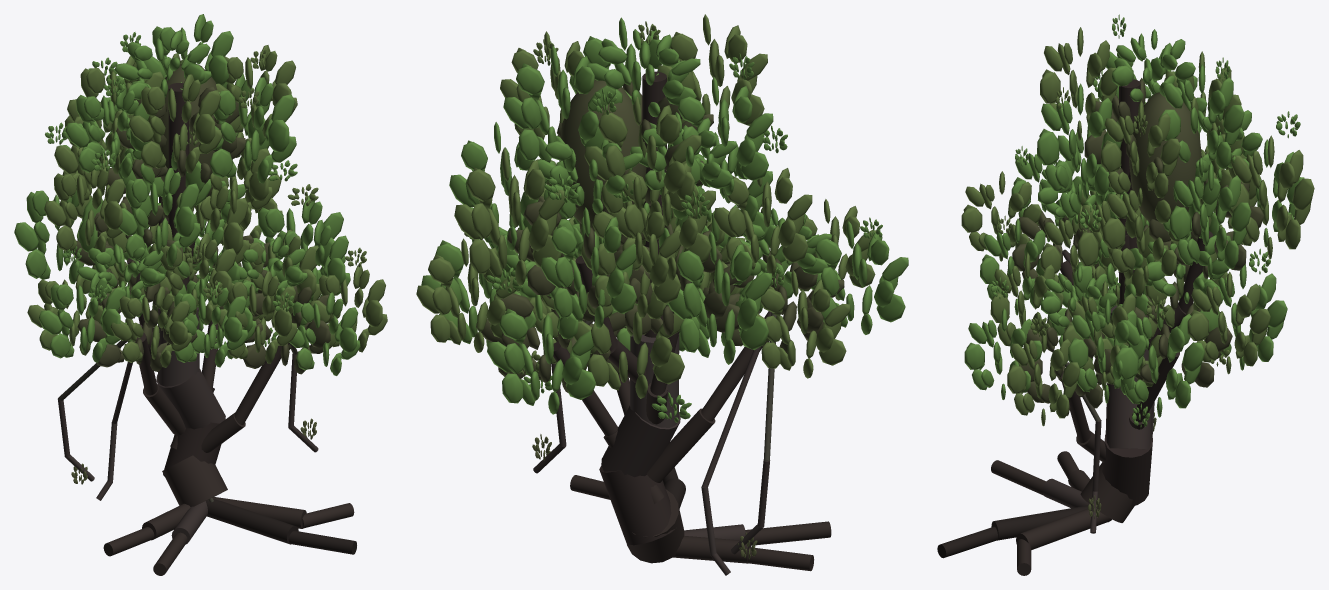
Rendered from CMU3DBroadleafTree01.glb.
3 views of the same model, side by side, from view 1: azimuth 30°, elevation 25°; view 2: azimuth 150°, elevation 25°; view 3: azimuth 270°, elevation 25° (orthographic). The views are drawn at different scales.
Parts seen in each view (by area): view 1: irregular rounded leaf cluster (×31), off-center crown cluster (×4), rounded leaf core (×4), source curved trunk 3, source curved trunk 1, source root 2.1, source curved trunk 2, inferred hidden trunk continuation, dark inner oval foliage, source curved trunk 4, inferred crown branch 5.2, source root 3.1 (+9 smaller); view 2: irregular rounded leaf cluster (×23), off-center crown cluster (×5), rounded leaf core (×5), source curved trunk 2, dark inner oval foliage, source curved trunk 3, inferred crown branch 4.1, source curved trunk 1, source curved trunk 4, source root 4.1, source root 1.2, inferred crown branch 4.2 (+7 smaller); view 3: irregular rounded leaf cluster (×30), off-center crown cluster (×5), rounded leaf core (×5), dark inner oval foliage, source curved trunk 2, source curved trunk 3, source root 3.1, source curved trunk 1, source root 2.1, inferred hidden trunk continuation, source root 2.2, source root 1.1 (+5 smaller).
Boxes of the visible parts, left/top/right/bottom form: irregular rounded leaf cluster (×31): left=14, top=14, right=387, bottom=375; off-center crown cluster (×4): left=77, top=30, right=307, bottom=299; rounded leaf core (×4): left=73, top=87, right=335, bottom=374; source curved trunk 3: left=156, top=369, right=225, bottom=429; source curved trunk 1: left=162, top=455, right=227, bottom=506; source root 2.1: left=205, top=499, right=298, bottom=544; source curved trunk 2: left=163, top=422, right=221, bottom=479; inferred hidden trunk continuation: left=168, top=83, right=189, bottom=290; dark inner oval foliage: left=160, top=64, right=217, bottom=181; source curved trunk 4: left=157, top=307, right=199, bottom=386; inferred crown branch 5.2: left=234, top=343, right=289, bottom=424; source root 3.1: left=212, top=497, right=306, bottom=528; irregular rounded leaf cluster (×23): left=416, top=14, right=908, bottom=414; off-center crown cluster (×5): left=506, top=29, right=831, bottom=301; rounded leaf core (×5): left=476, top=74, right=844, bottom=393; source curved trunk 2: left=599, top=466, right=676, bottom=545; dark inner oval foliage: left=559, top=79, right=646, bottom=231; source curved trunk 3: left=601, top=405, right=680, bottom=477; inferred crown branch 4.1: left=646, top=408, right=715, bottom=482; source curved trunk 1: left=626, top=489, right=684, bottom=563; source curved trunk 4: left=630, top=334, right=679, bottom=427; source root 4.1: left=673, top=535, right=751, bottom=563; source root 1.2: left=745, top=521, right=831, bottom=545; inferred crown branch 4.2: left=701, top=313, right=767, bottom=421; irregular rounded leaf cluster (×30): left=961, top=27, right=1314, bottom=426; off-center crown cluster (×5): left=1038, top=29, right=1262, bottom=329; rounded leaf core (×5): left=1012, top=78, right=1264, bottom=415; dark inner oval foliage: left=1129, top=92, right=1201, bottom=221; source curved trunk 2: left=1102, top=434, right=1152, bottom=506; source curved trunk 3: left=1105, top=381, right=1152, bottom=449; source root 3.1: left=1016, top=508, right=1111, bottom=549; source curved trunk 1: left=1080, top=462, right=1149, bottom=522; source root 2.1: left=991, top=505, right=1110, bottom=540; inferred hidden trunk continuation: left=1119, top=79, right=1140, bottom=304; source root 2.2: left=937, top=526, right=997, bottom=558; source root 1.1: left=1042, top=478, right=1089, bottom=508.
Bounding box in the file's own units: 1.83 × 2.32 × 1.67.
